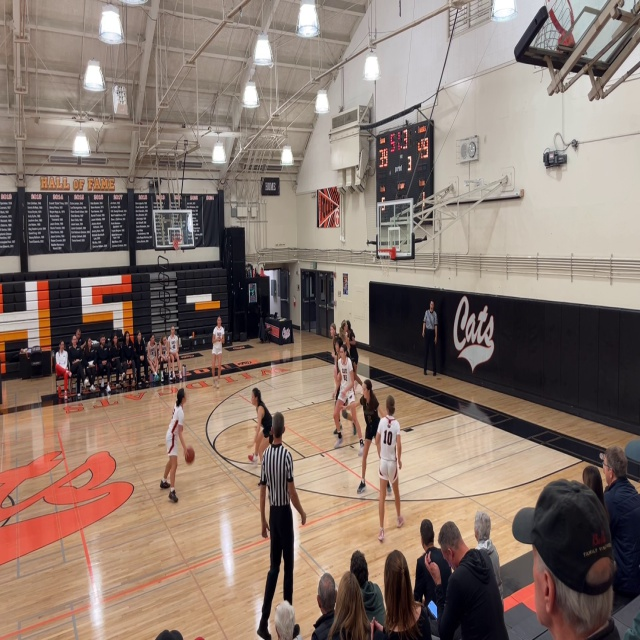Basketball: (184, 446, 195, 464)
